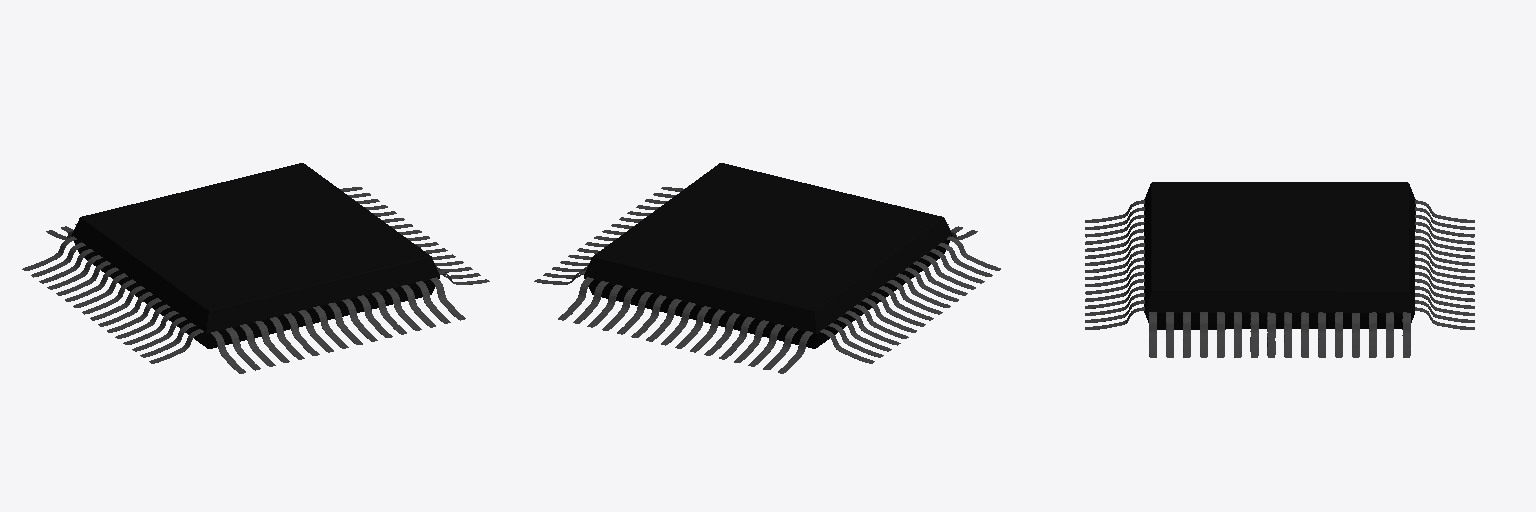
The model's file is Chip.obj.
3 renders of one model, left to right at view 1: azimuth 30°, elevation 25°; view 2: azimuth 150°, elevation 25°; view 3: azimuth 270°, elevation 25°, orthographic.
Visible parts, largest first — view 1: Chip_Plane.002; view 2: Chip_Plane.002; view 3: Chip_Plane.002.
Boxes of the visible parts, x1=… form: Chip_Plane.002: x1=22, y1=163, x2=489, y2=373; Chip_Plane.002: x1=534, y1=163, x2=1000, y2=373; Chip_Plane.002: x1=1085, y1=182, x2=1474, y2=357.
Size of the model in its own units: 0.9997 by 0.11 by 0.9995.